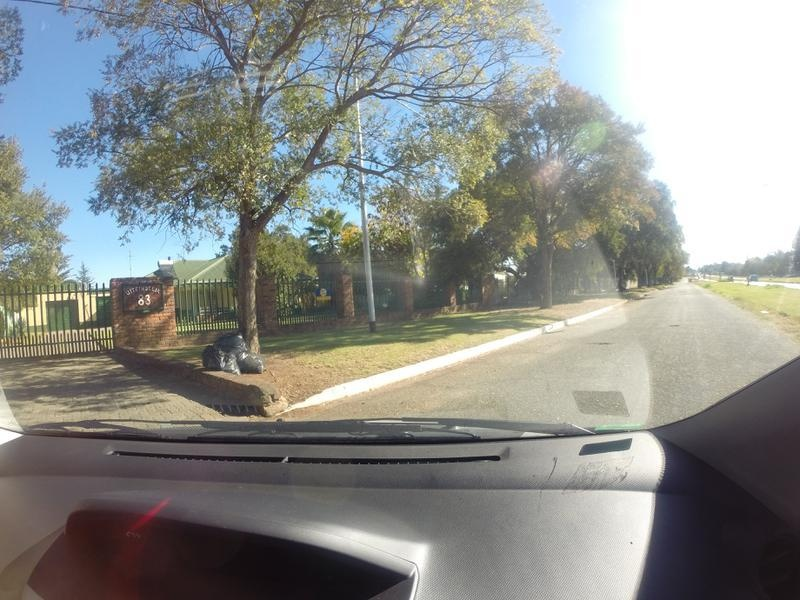pothole: (586, 339, 612, 343), (669, 322, 682, 329)
